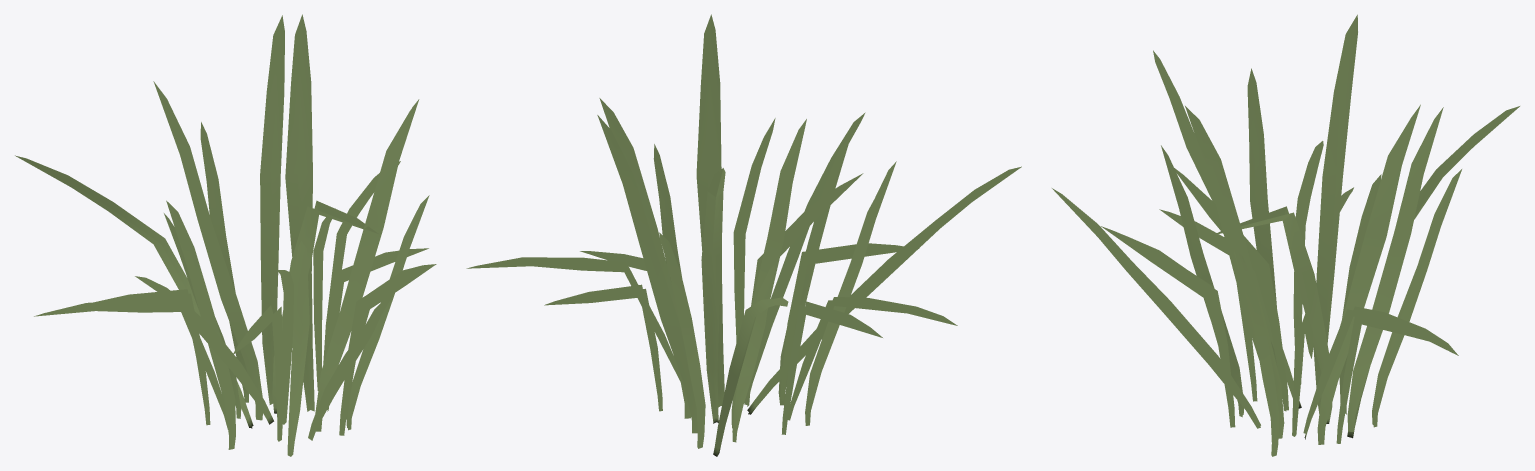
The model's file is Grass_Wispy_Short.glb.
The picture shows the model from 3 angles, left to right: view 1: azimuth 30°, elevation 25°; view 2: azimuth 150°, elevation 25°; view 3: azimuth 270°, elevation 25°; orthographic projection. The views are drawn at different scales.
Visible parts, largest first — view 1: Grass_Wispy_Short; view 2: Grass_Wispy_Short; view 3: Grass_Wispy_Short.
Part boxes in pixels (<box>): Grass_Wispy_Short: <box>15,14,436,456</box>; Grass_Wispy_Short: <box>466,14,1021,456</box>; Grass_Wispy_Short: <box>1052,14,1519,456</box>.
Bounding box in the file's own units: 1.32 × 1.07 × 1.21.
